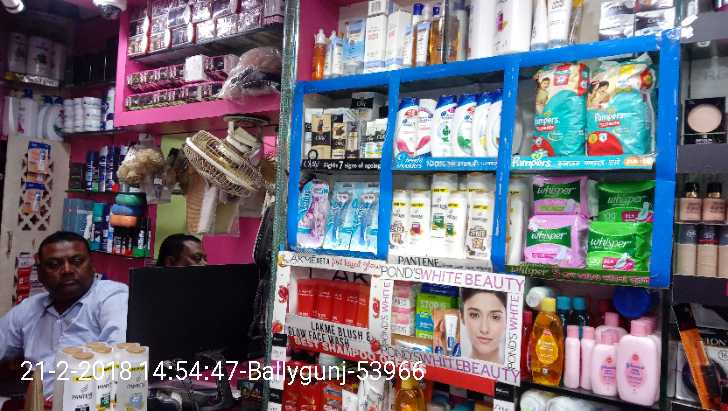venus: (297, 182, 328, 248), (352, 185, 378, 253), (328, 182, 352, 253)
